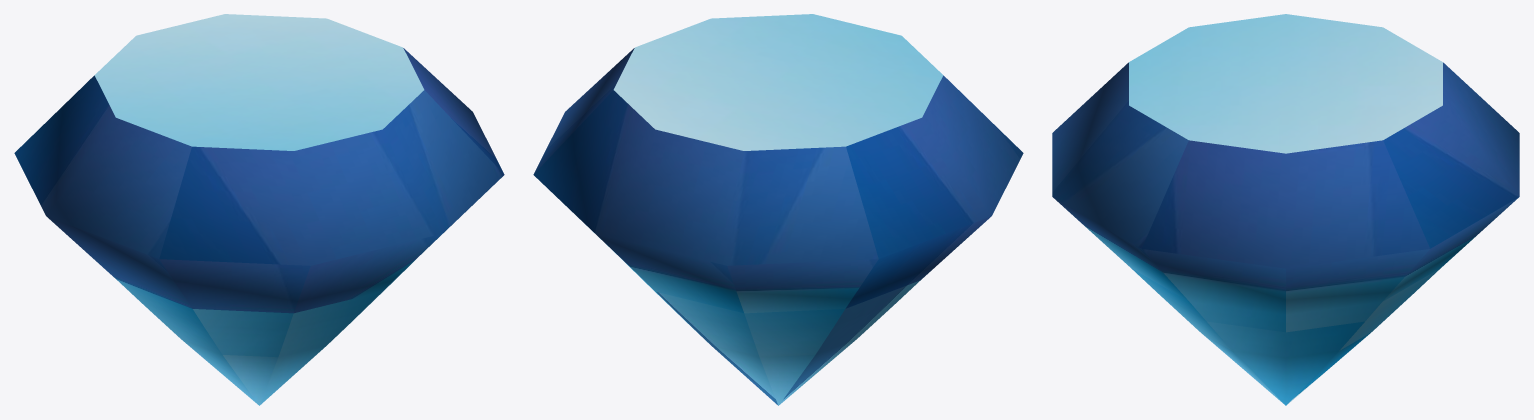
The model's file is 5S_07diamond.FBX.
3 renders of one model, left to right at view 1: azimuth 30°, elevation 25°; view 2: azimuth 150°, elevation 25°; view 3: azimuth 270°, elevation 25°, orthographic.
Parts seen in each view (by area): view 1: 5S_23diamond_00; view 2: 5S_23diamond_00; view 3: 5S_23diamond_00.
Part boxes in pixels (left/top/right/bottom): 5S_23diamond_00: left=14, top=14, right=504, bottom=405; 5S_23diamond_00: left=533, top=14, right=1023, bottom=405; 5S_23diamond_00: left=1052, top=14, right=1519, bottom=405.
Bounding box in the file's own units: 2.11 × 1.53 × 2.01.
1 material, 1 textured.
